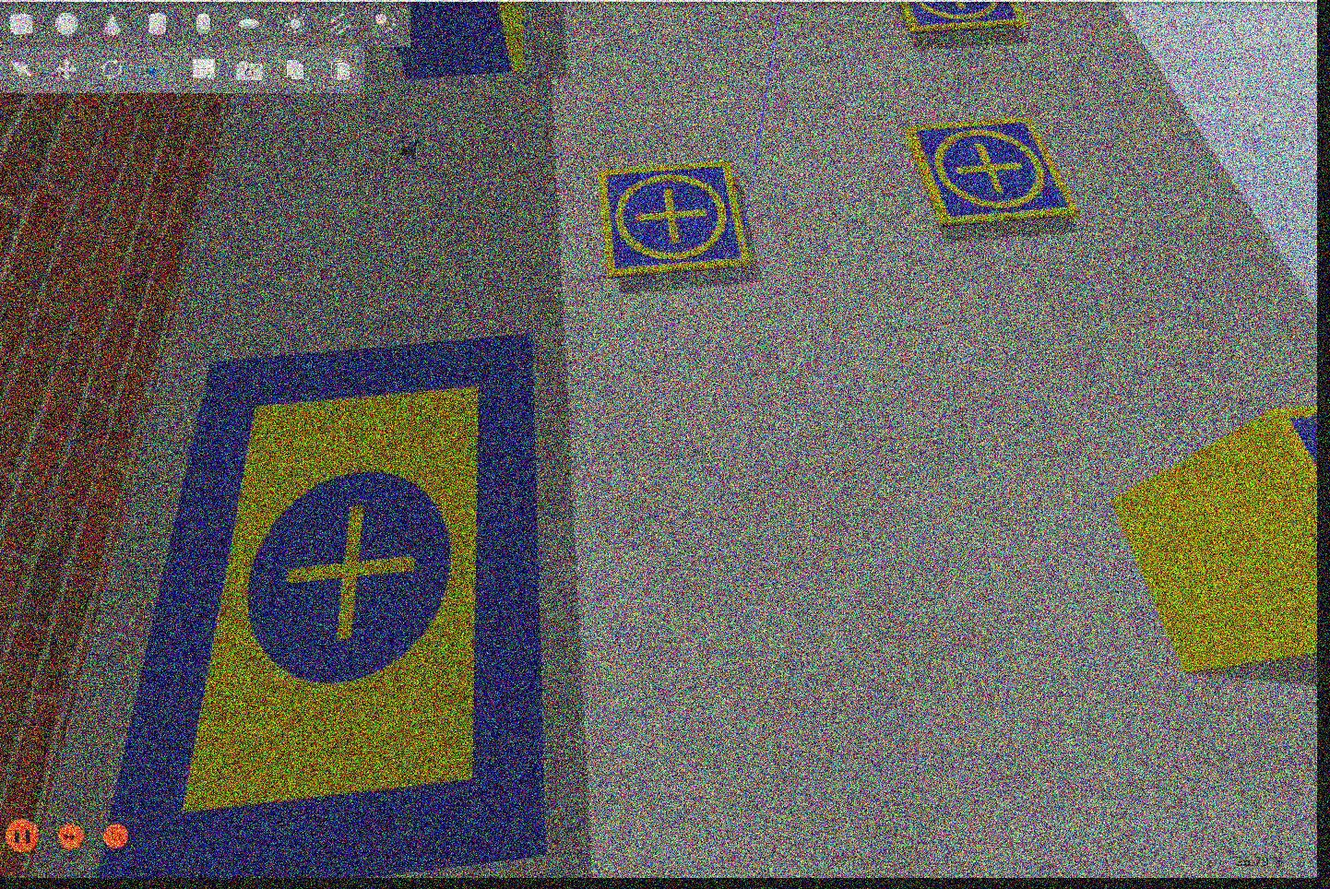large_base: (95, 334, 548, 876)
small_base: (903, 119, 1082, 229), (598, 161, 751, 280), (897, 1, 1027, 36)
